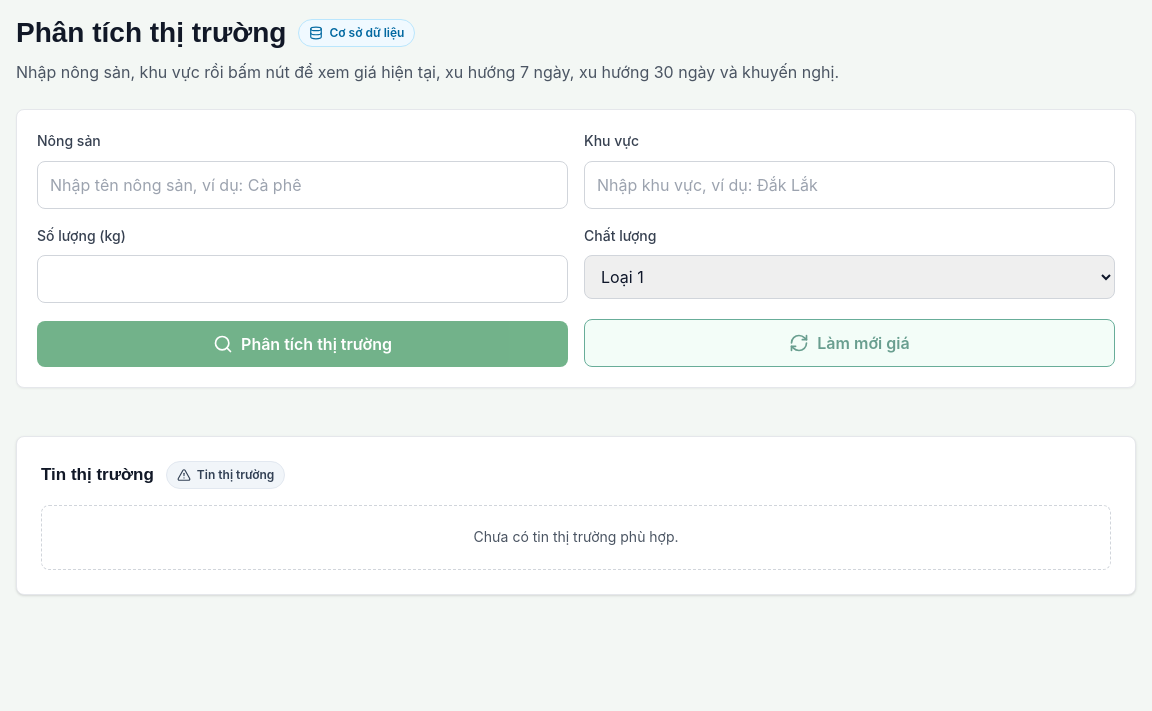
Test: market analysis real-data contract › lists every source returned for the analysis
The image size is (1152, 711).
Type "Cà phê" into the field labelled "Nông sản" at (302, 185), box left=37, top=161, right=568, bottom=209
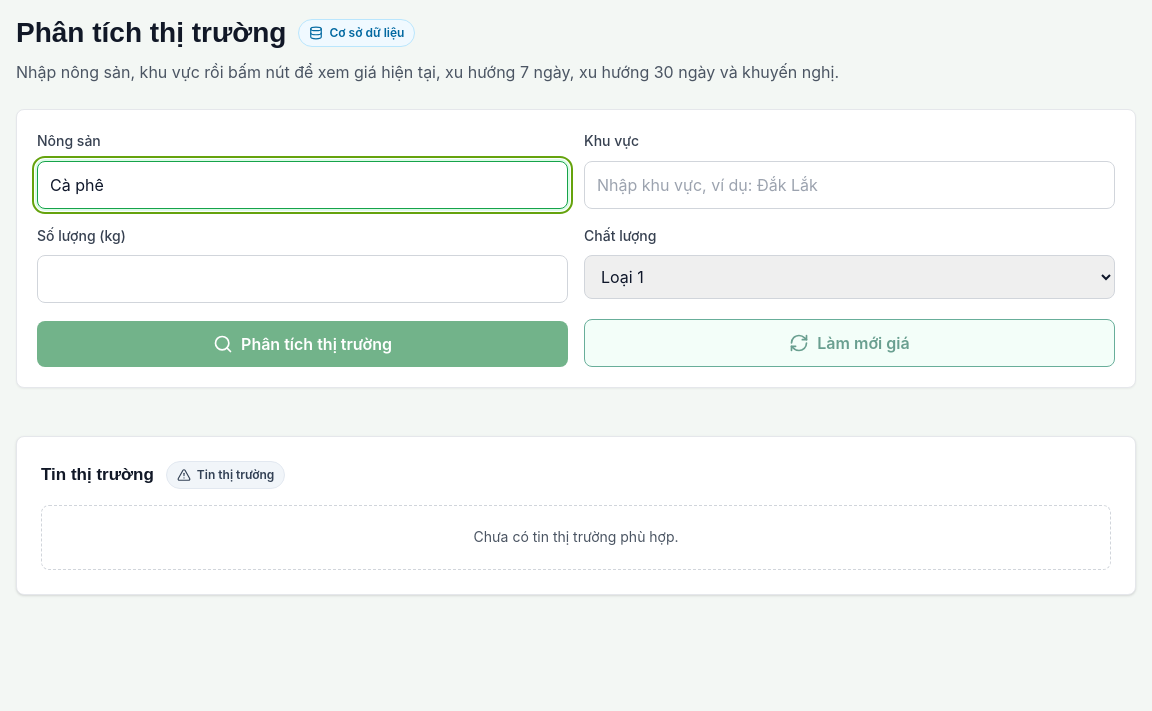
Type "Đắk Lắk" into the field labelled "Khu vực" at (850, 185), box left=584, top=161, right=1115, bottom=209
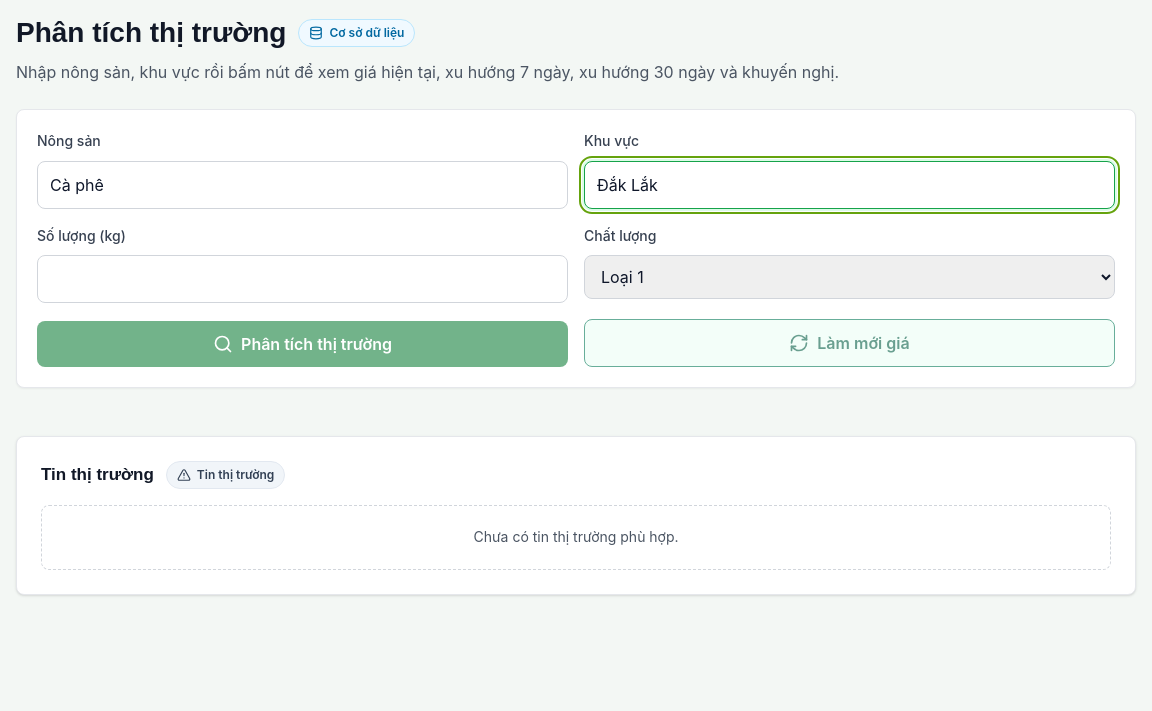
Type "1000" into the number field labelled "Số lượng (kg)" at (302, 279), box left=37, top=255, right=568, bottom=303
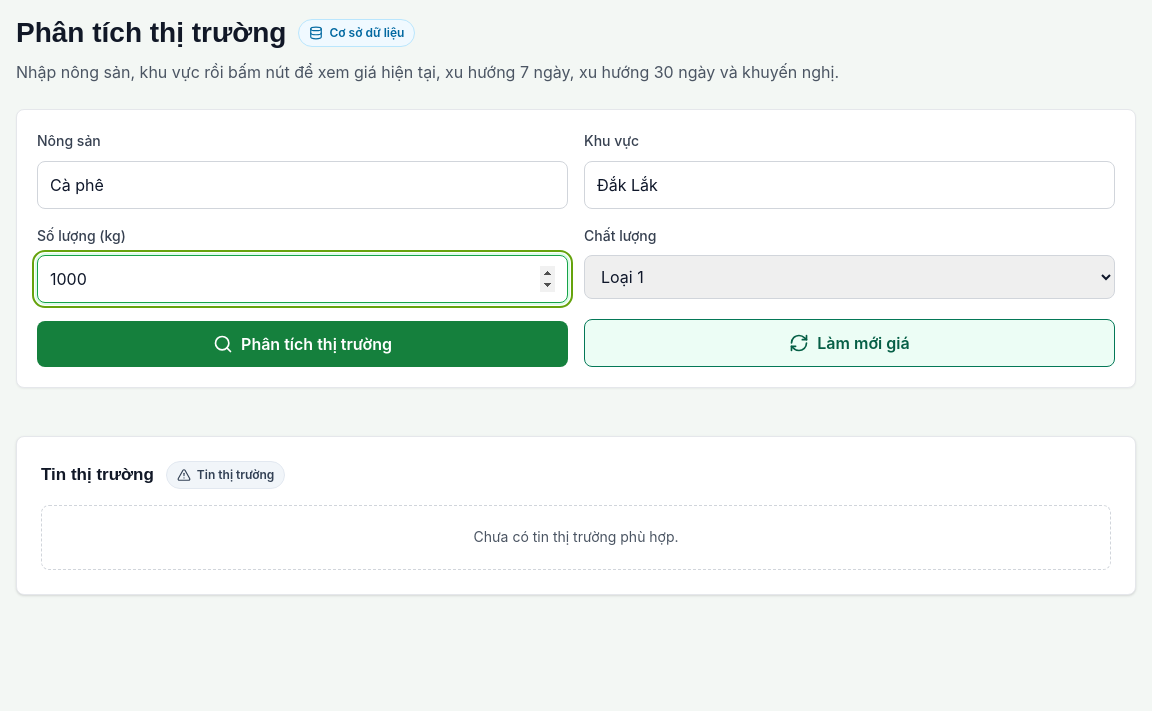
Click the button "Phân tích thị trường" at (302, 344), box left=37, top=321, right=568, bottom=367
(page scrolled)
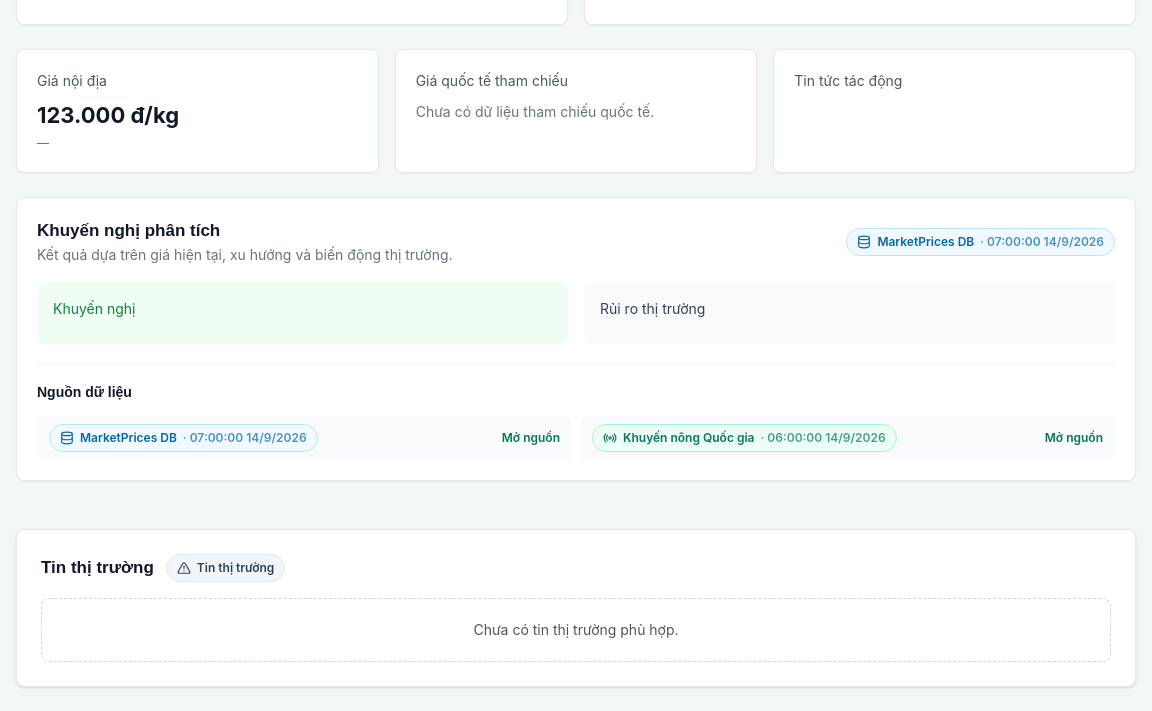
Result: the text "MarketPrices DB" in the row of "Khuyến nghị phân tích" is shown at left=877, top=234, right=974, bottom=249
Result: the text "Khuyến nông Quốc gia" is shown at left=623, top=429, right=754, bottom=447
